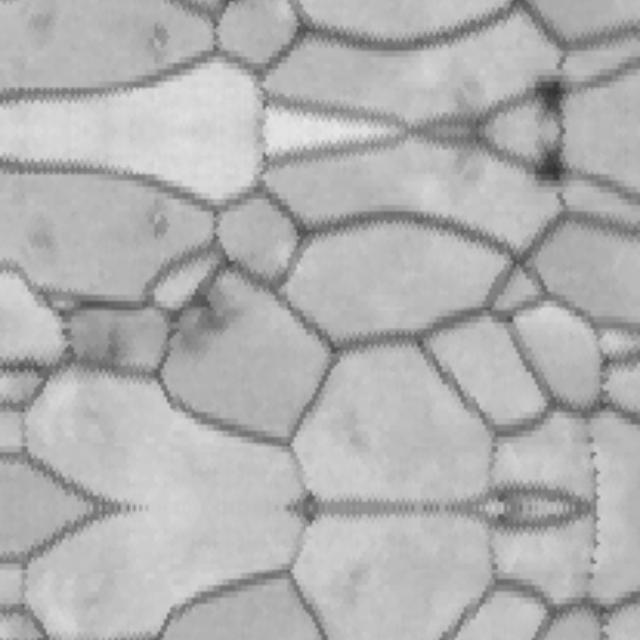good_void: (163, 278, 251, 364), (521, 132, 581, 195), (521, 69, 581, 132), (72, 322, 130, 376), (128, 21, 177, 71), (128, 193, 177, 242)
